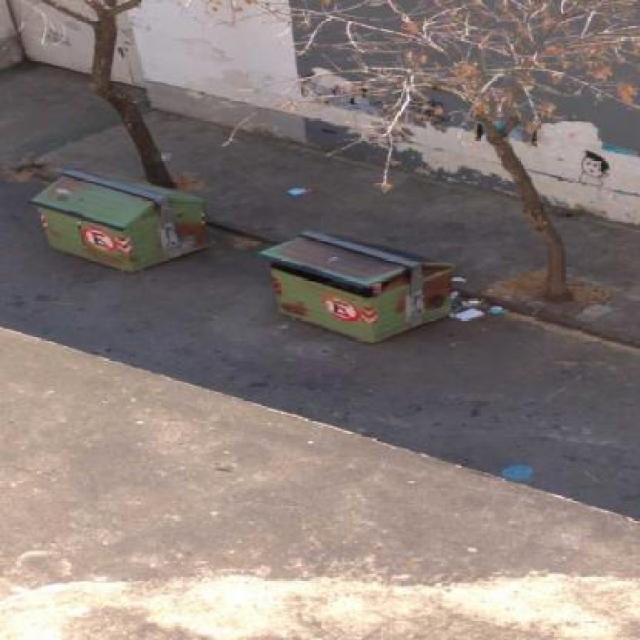garbage: (446, 288, 536, 324), (491, 456, 562, 500), (257, 177, 312, 202)
